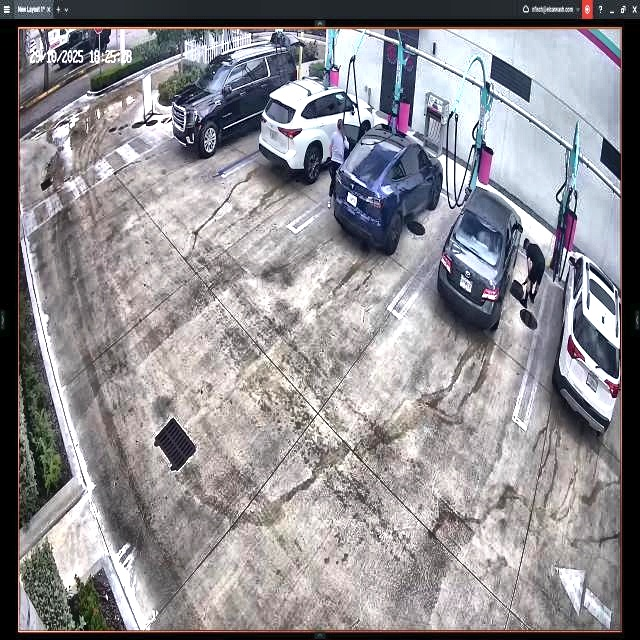Car: (333, 121, 443, 253), (438, 186, 522, 328), (260, 75, 373, 179)
